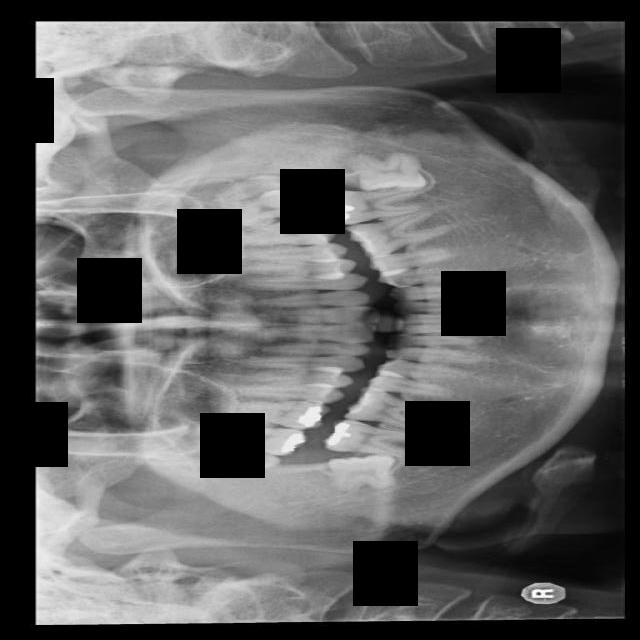3M ESPE Implant: (182, 434, 281, 473)
52: (320, 408, 372, 462), (328, 183, 374, 228), (279, 395, 332, 433), (256, 187, 312, 218), (255, 426, 308, 455)
73: (587, 40, 597, 44)
BioHorizons Implant: (214, 183, 312, 228)
BioLife Implant: (213, 170, 288, 204)
Biomet 3i Implant: (350, 150, 428, 196)
Blue Sky Bio Implant: (329, 185, 431, 225)
Caries: (200, 419, 309, 457)
Implant: (322, 416, 426, 458)
Keystone Dental Implant: (327, 450, 400, 496)
